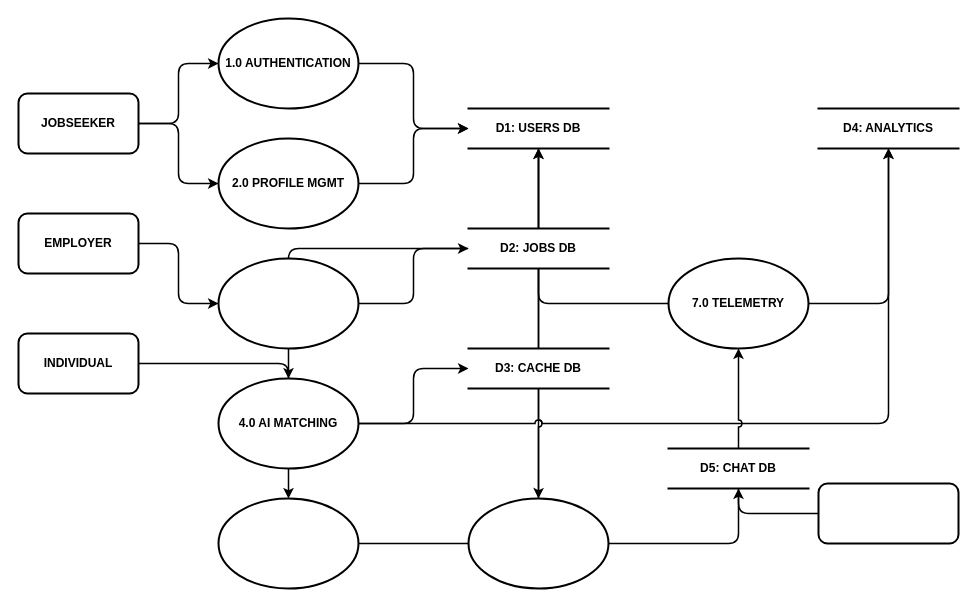
The diagram is 976 pixels wide and 606 high, and some of its shapes have lost their labels. The shapes that lost their labels are listed below. From the top down, each one's centre as x and y in pixels, then its label:
At (x=288, y=303): "3.0 JOB POSTINGS".
At (x=888, y=513): "ADMINISTRATOR".
At (x=288, y=543): "5.0 DIAGNOSTIC".
At (x=538, y=543): "6.0 MESSAGING".
